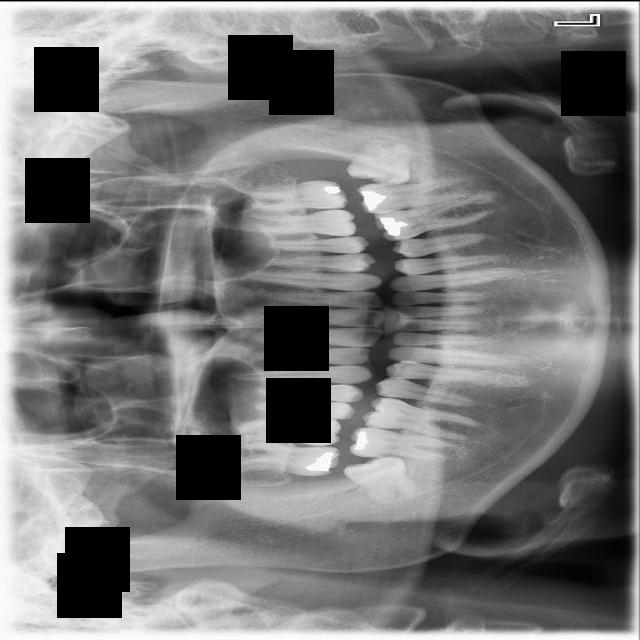52: (281, 444, 342, 477), (355, 179, 402, 216), (300, 179, 348, 210), (348, 424, 391, 458), (375, 210, 418, 240)
73: (568, 19, 580, 24)
BioHorizons Implant: (248, 179, 350, 210)
Biomet 3i Implant: (345, 134, 412, 186)
Blue Sky Bio Implant: (357, 173, 477, 213)
Caries: (228, 439, 341, 478)
Implant: (350, 425, 462, 462)
Keystone Dental Implant: (342, 447, 421, 517)
